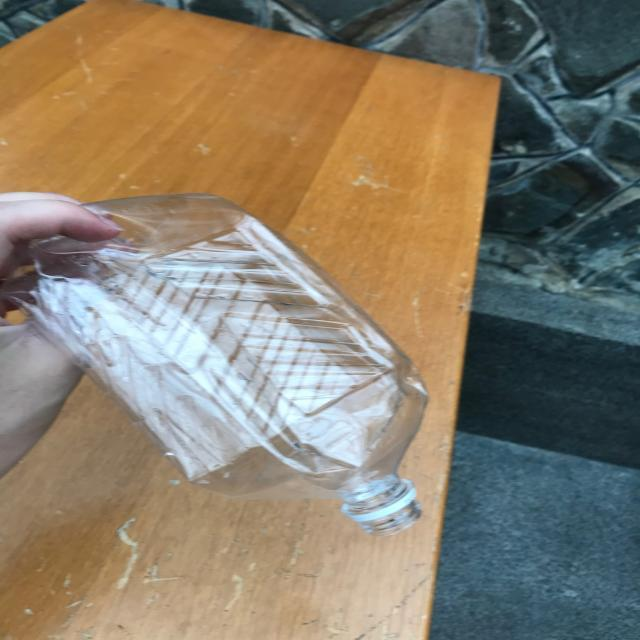plastic_bottle: (0, 193, 429, 537)
